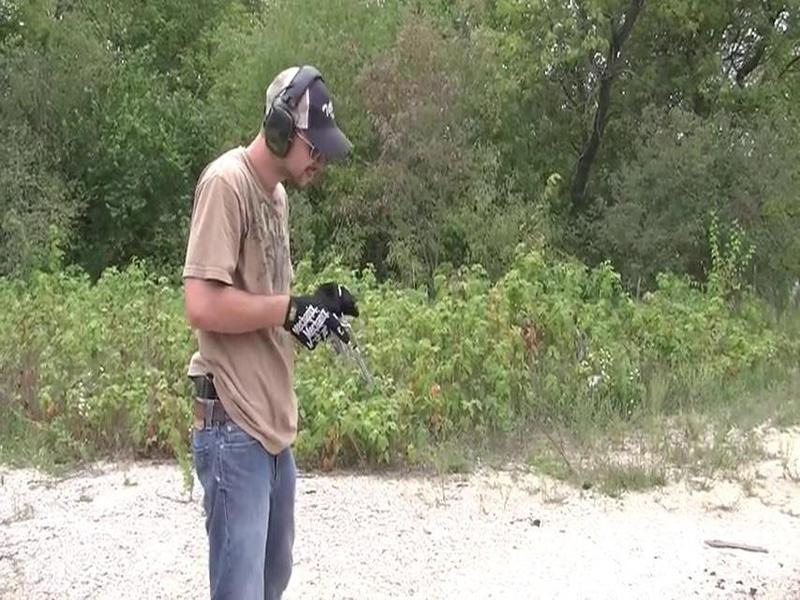Revolver: (307, 305, 385, 404)
